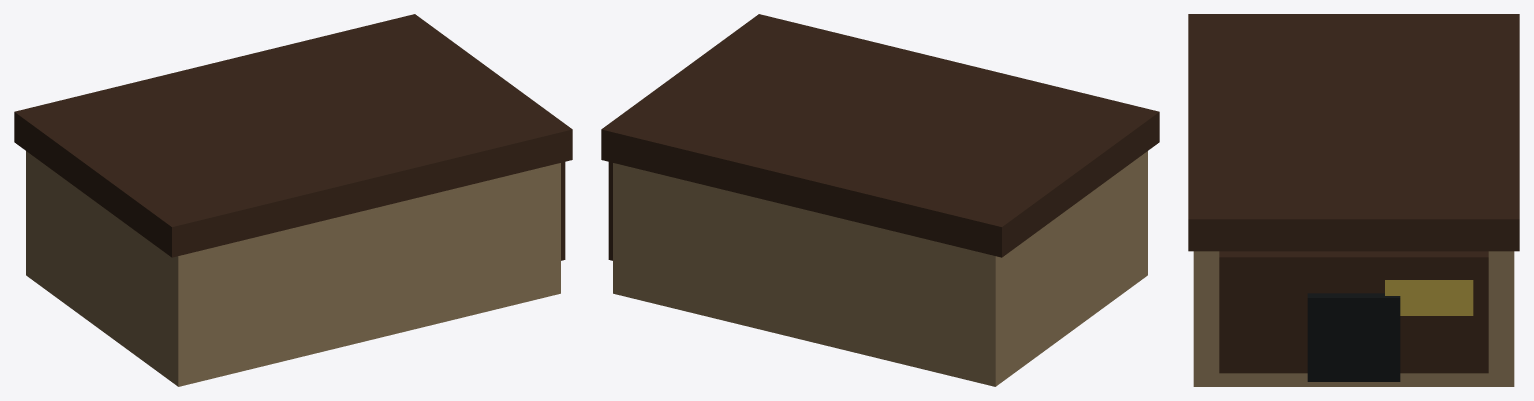
File: ammo-bunker.glb
3 renders of one model, left to right at view 1: azimuth 30°, elevation 25°; view 2: azimuth 150°, elevation 25°; view 3: azimuth 270°, elevation 25°, orthographic. The views are drawn at different scales.
Visible parts, largest first — view 1: roofLogs, earthShell, timberFace; view 2: roofLogs, earthShell, timberFace; view 3: roofLogs, timberFace, earthShell, entrance, warningStencil.
Part boxes in pixels (x1,y1,x2,y2): roofLogs: [14, 14, 572, 257]; earthShell: [26, 151, 560, 386]; timberFace: [561, 162, 565, 260]; roofLogs: [601, 14, 1159, 257]; earthShell: [613, 151, 1147, 386]; timberFace: [608, 162, 612, 260]; roofLogs: [1188, 14, 1519, 251]; timberFace: [1219, 251, 1488, 373]; earthShell: [1193, 251, 1514, 386]; entrance: [1307, 293, 1400, 381]; warningStencil: [1385, 280, 1473, 315].
Size of the model in its own units: 2.29 by 0.86 by 1.5.
